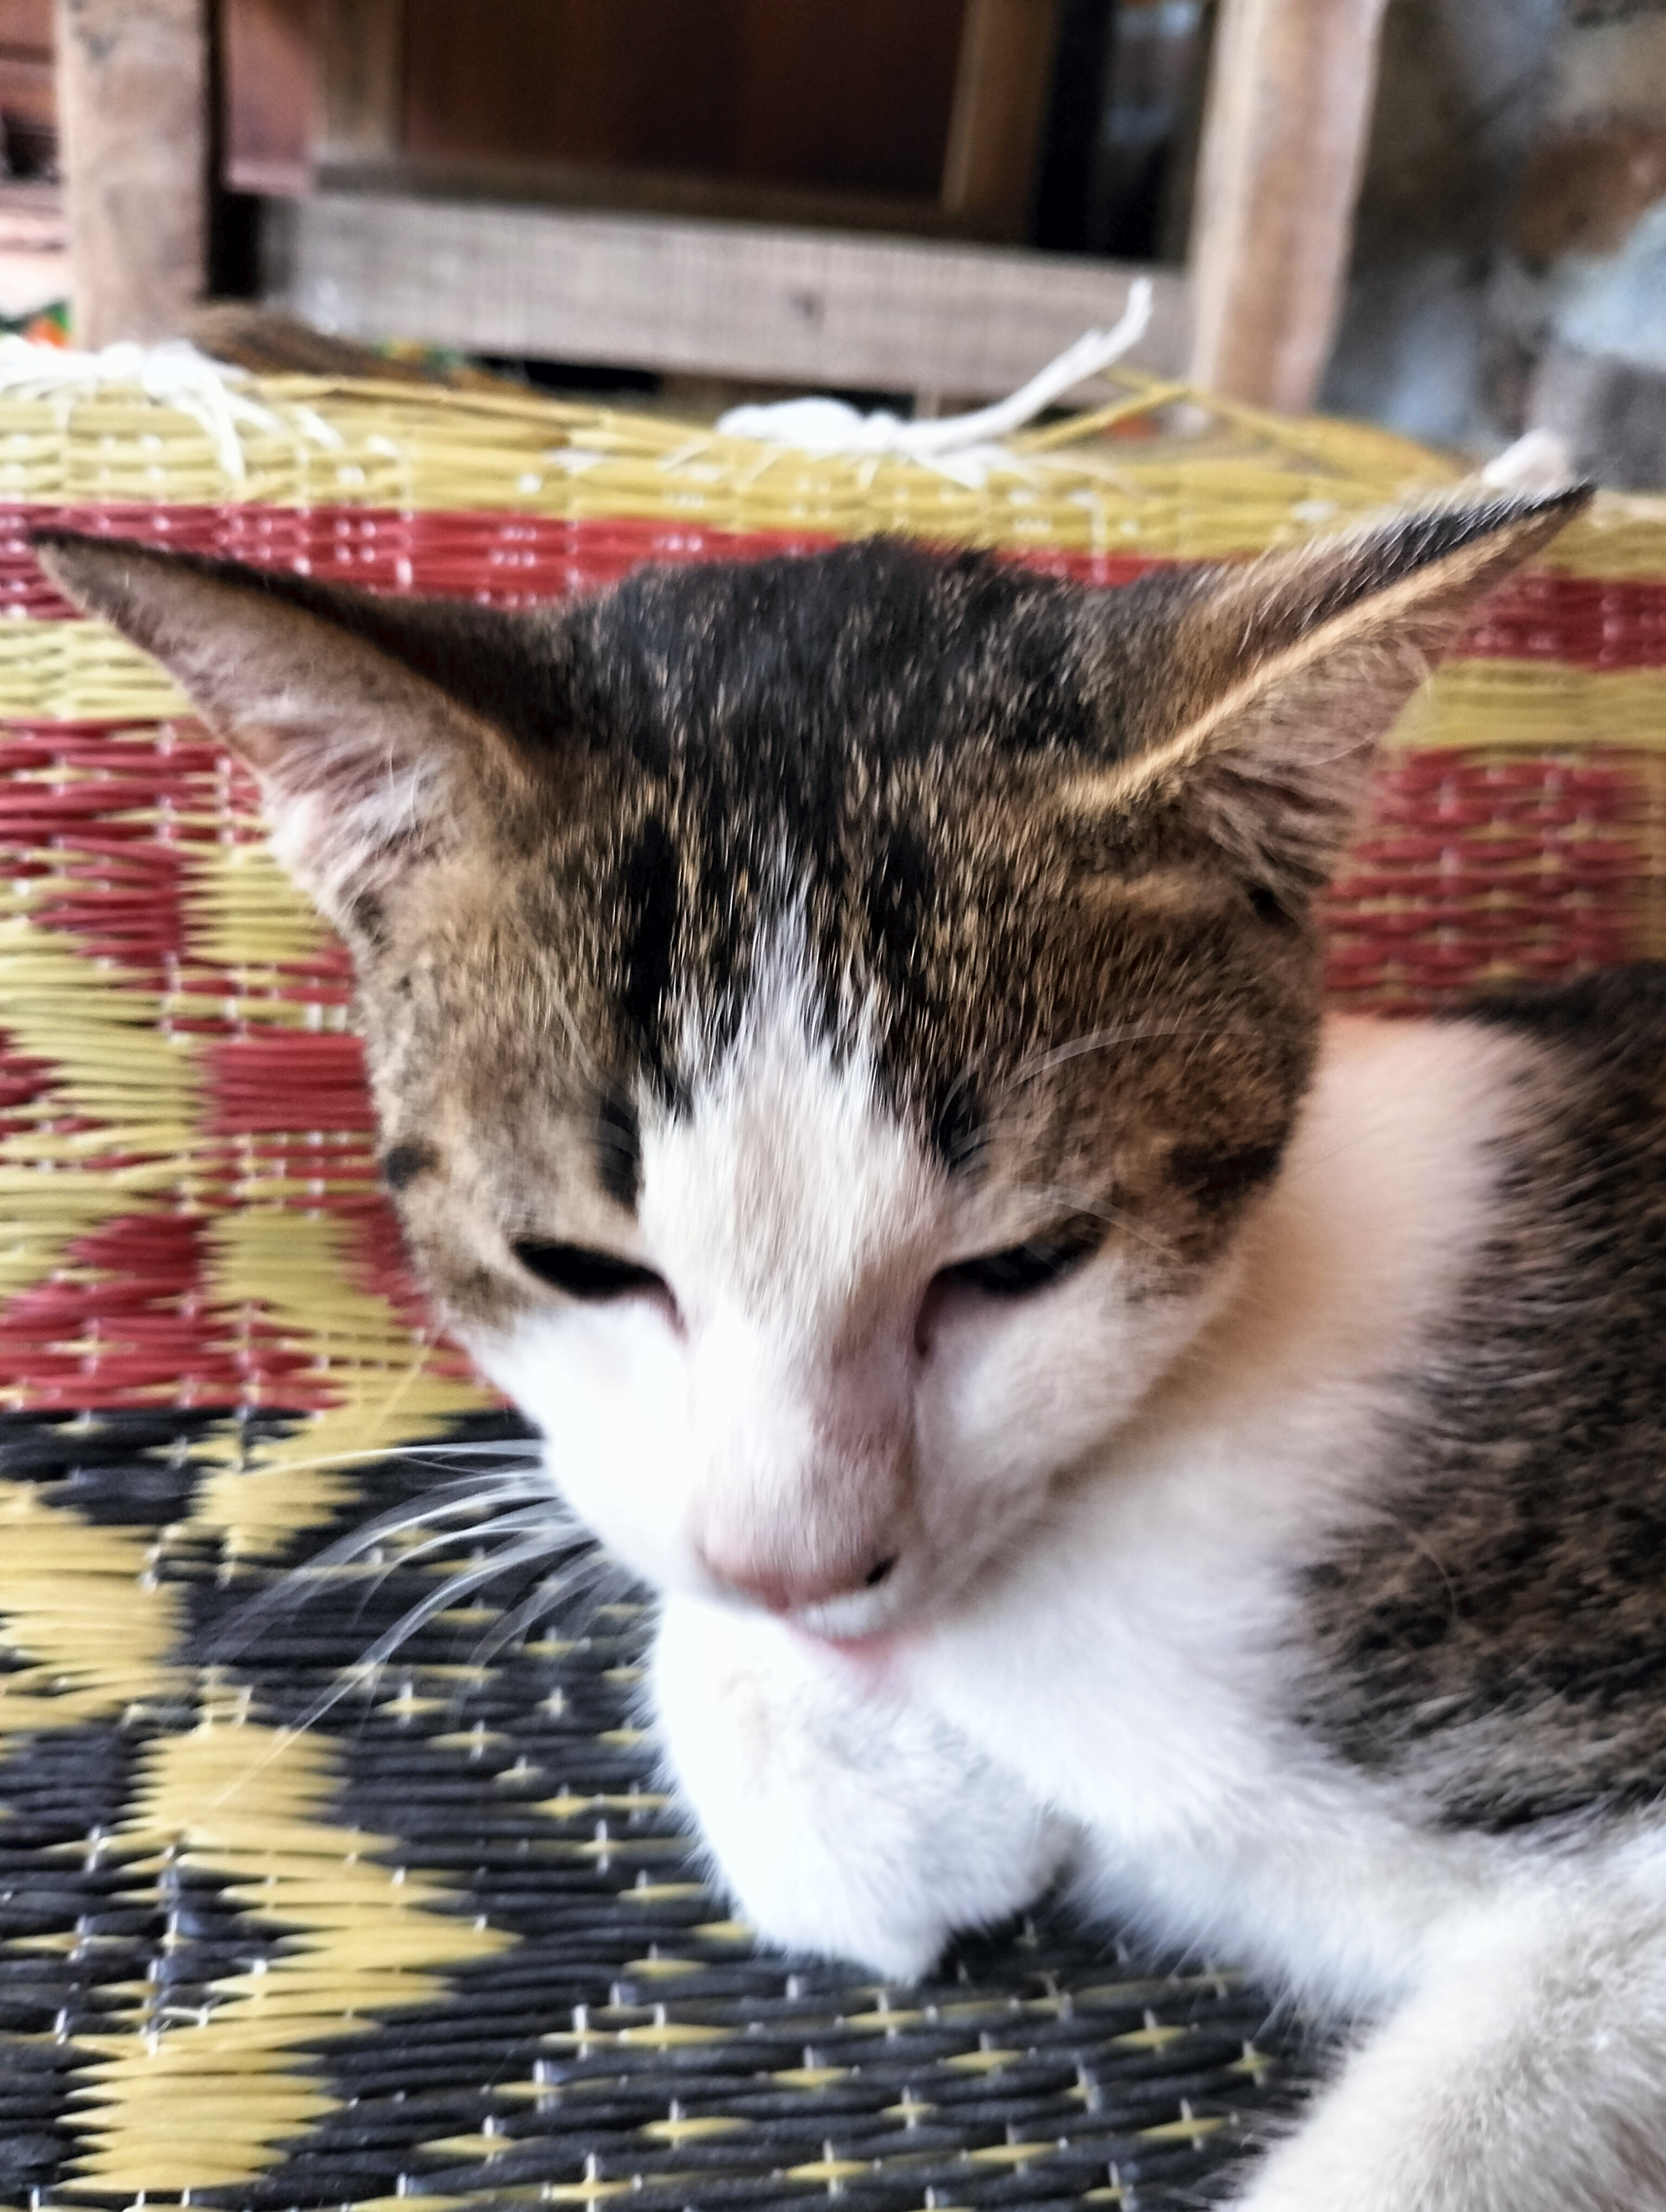miki: (15, 477, 1628, 1670)
